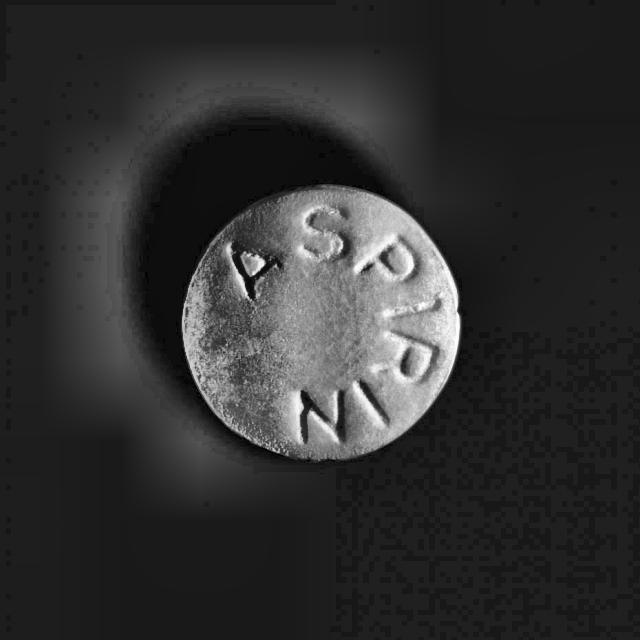Aspirin: (188, 185, 463, 466)
